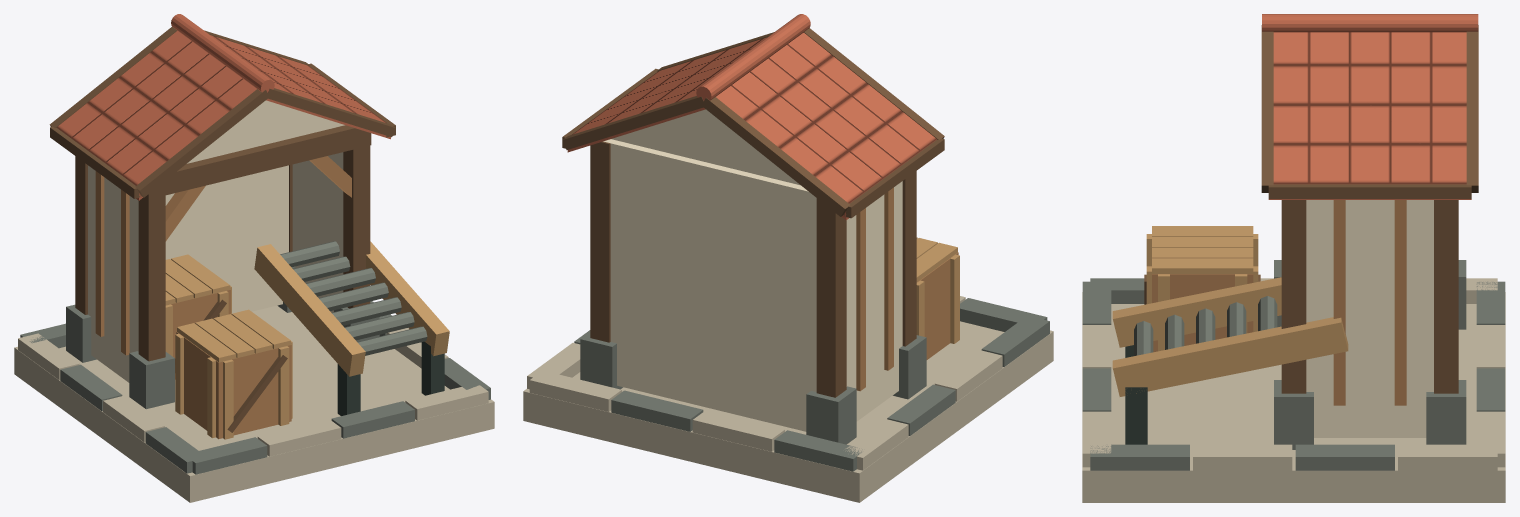
File: source-normal.glb
3 renders of one model, left to right at view 1: azimuth 30°, elevation 25°; view 2: azimuth 150°, elevation 25°; view 3: azimuth 270°, elevation 25°, orthographic. The views are drawn at different scales.
Visible parts, largest first — view 1: Mesh_source-normal_FacilityDetailPaint; view 2: Mesh_source-normal_FacilityDetailPaint; view 3: Mesh_source-normal_FacilityDetailPaint.
Part boxes in pixels (x1=…): Mesh_source-normal_FacilityDetailPaint: x1=14, y1=14, x2=494, y2=502; Mesh_source-normal_FacilityDetailPaint: x1=523, y1=14, x2=1053, y2=502; Mesh_source-normal_FacilityDetailPaint: x1=1082, y1=14, x2=1505, y2=502.
Bounding box in the file's own units: 0.8333 × 0.8664 × 0.8333.
Materials: 1 (1 with a texture image).
